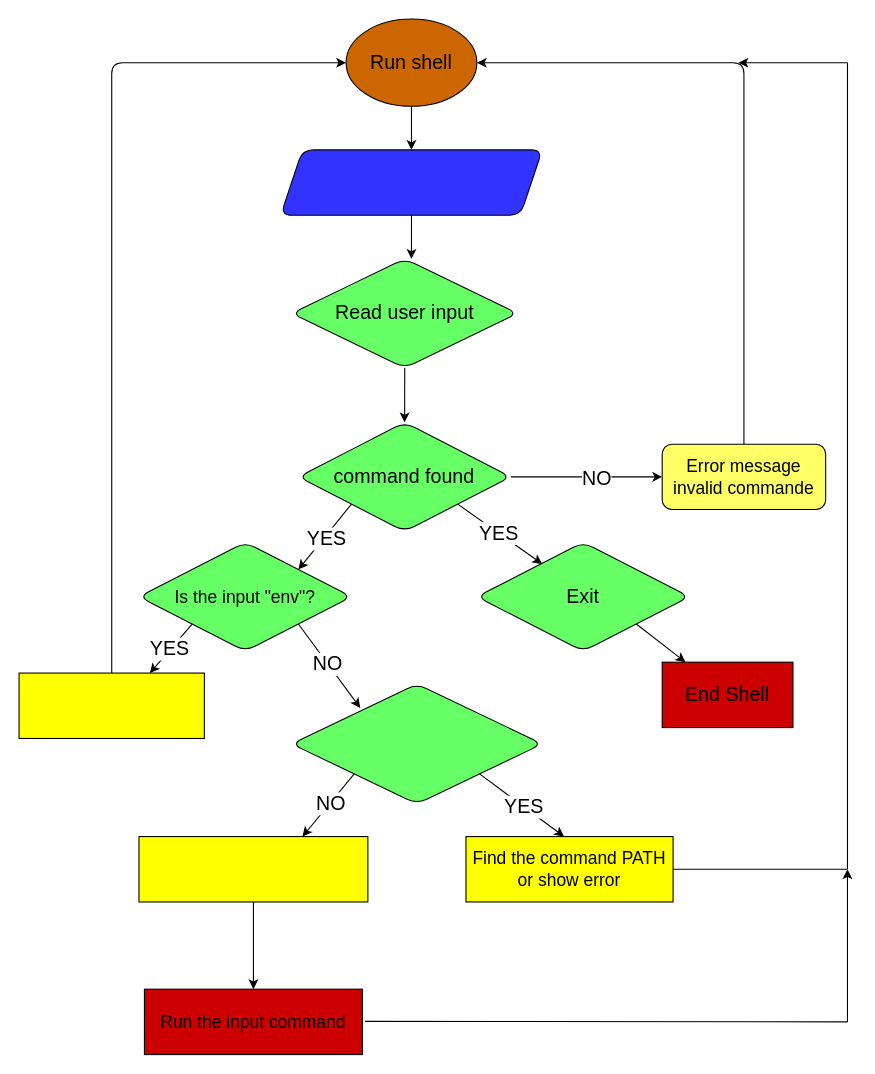
The diagram is 875 pixels wide and 1074 high, and some of its shapes have lost their labels. The centre of each missing label's shape, as x and y in pixels:
Command: ls etc...: point (253, 868)
Is the input start with "which: point (416, 743)
Show environment: point (111, 705)
Start loop: point (411, 182)
